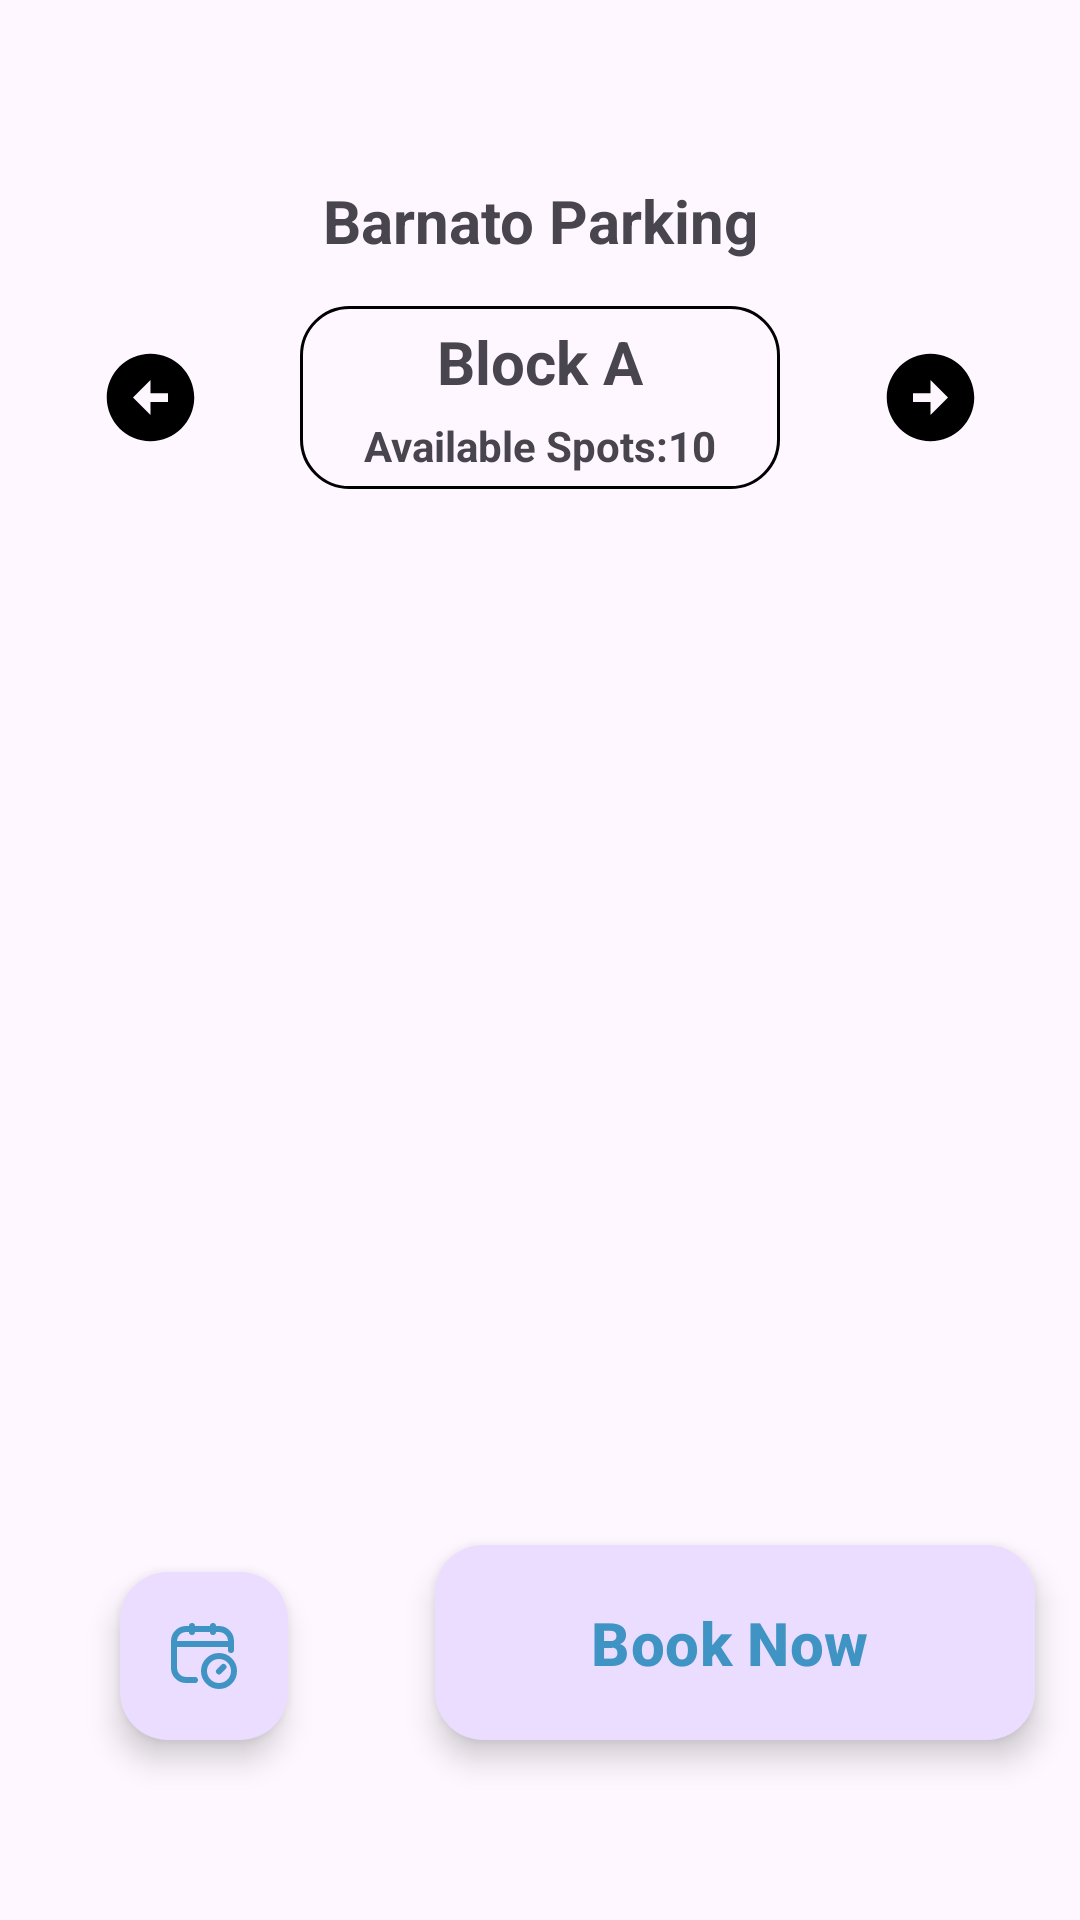

Icon click points for this 1080px x 1920px phone screenshot, format (x,y):
arrowleft: (150,397)
arrowright: (930,397)
scheduleicon: (204,1656)
